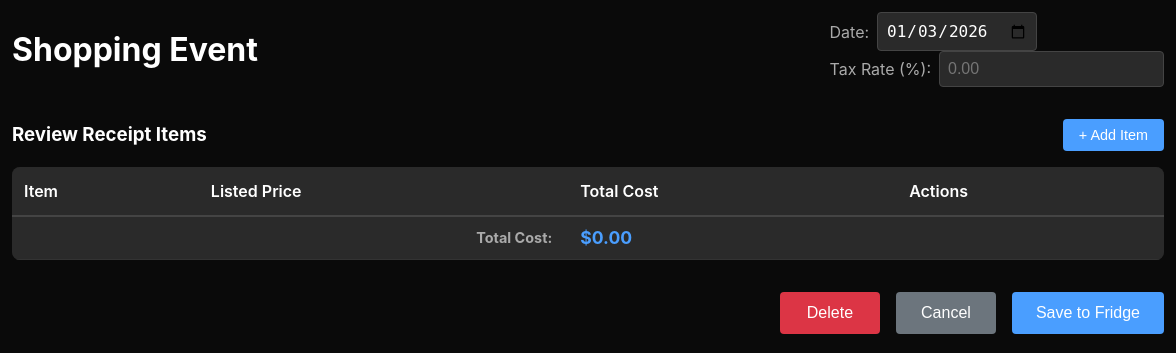
Test case: ShoppingEvent › should not create event when Save is clicked with empty items for new event
The image size is (1176, 353).
Expected: the heading "Shopping Event" is shown, top-left (12, 26), bottom-right (258, 74)
Note: Click Save with empty items - should show error and NOT create event
Click the button "Save to Fridge": coordinates (1088, 313) top-left (1012, 292), bottom-right (1164, 334)
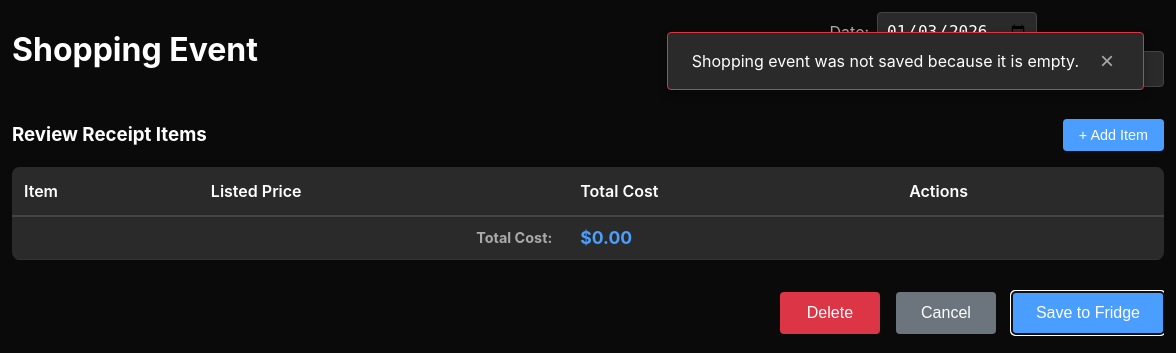
Now the text "Shopping event was not saved because it is empty." is shown, box top-left (692, 49), bottom-right (1079, 73)
